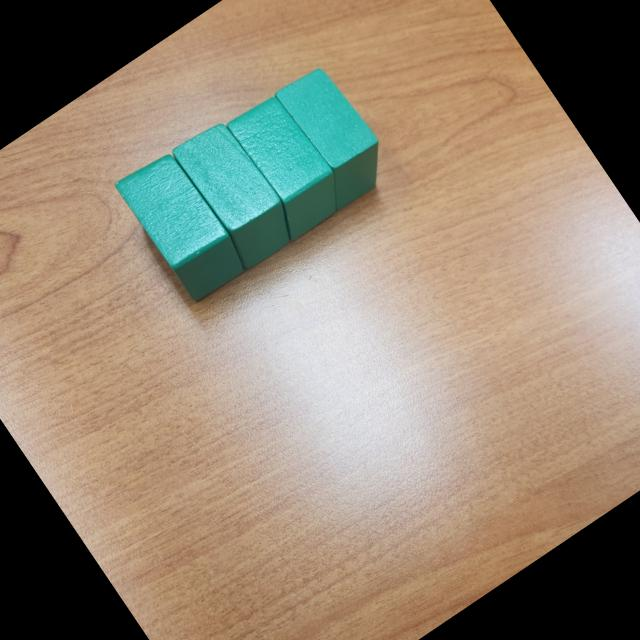green: (110, 145, 252, 308), (166, 114, 306, 272), (260, 58, 400, 214), (215, 86, 354, 242)
